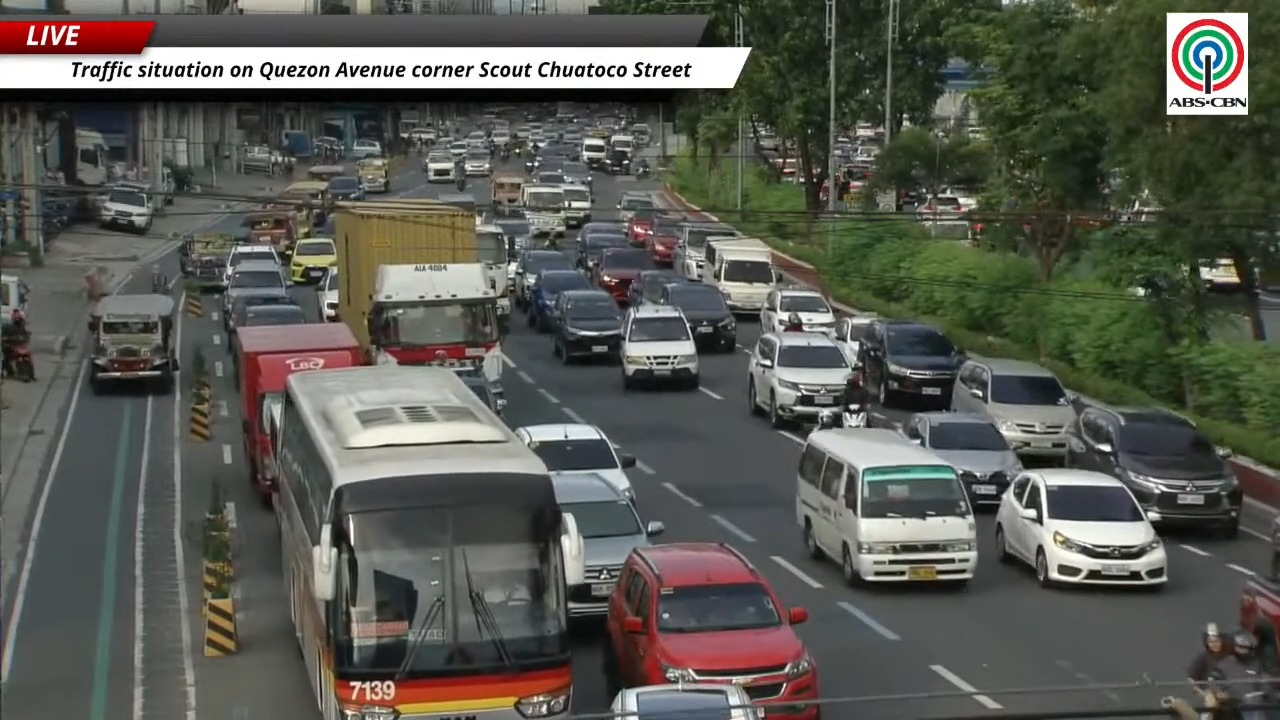bus: (275, 365, 583, 719)
car: (603, 543, 819, 719), (1066, 405, 1242, 537), (995, 468, 1167, 586), (552, 473, 664, 616), (950, 357, 1076, 459), (902, 412, 1021, 507), (747, 332, 852, 428), (857, 318, 963, 409), (516, 423, 635, 500), (620, 305, 699, 389), (610, 681, 759, 719), (657, 282, 735, 352), (550, 288, 621, 364), (224, 292, 301, 348), (222, 261, 290, 323), (527, 269, 592, 332), (512, 249, 573, 309), (673, 222, 736, 280), (593, 247, 656, 302), (760, 288, 835, 332), (491, 214, 532, 292), (221, 243, 282, 287), (576, 227, 630, 272), (99, 187, 153, 232), (290, 237, 337, 284), (832, 314, 877, 362), (628, 269, 687, 305), (459, 373, 505, 416), (644, 215, 681, 267), (235, 302, 307, 328), (561, 176, 592, 227), (626, 207, 659, 247), (316, 265, 339, 321), (616, 192, 655, 222), (326, 176, 365, 201), (424, 151, 455, 182), (526, 151, 566, 175), (559, 161, 592, 188), (464, 149, 491, 176), (351, 138, 383, 159), (533, 169, 566, 184), (448, 140, 468, 161), (490, 128, 511, 148)
motorcycle: (3, 333, 35, 383), (816, 405, 866, 428), (841, 404, 867, 427), (816, 409, 839, 429), (635, 161, 650, 179), (455, 174, 466, 191), (501, 148, 509, 161)
truck: (334, 199, 496, 366), (234, 323, 363, 505), (368, 263, 502, 393), (437, 193, 510, 333), (1239, 516, 1279, 665), (701, 238, 777, 312), (476, 224, 513, 333), (75, 127, 109, 186)
